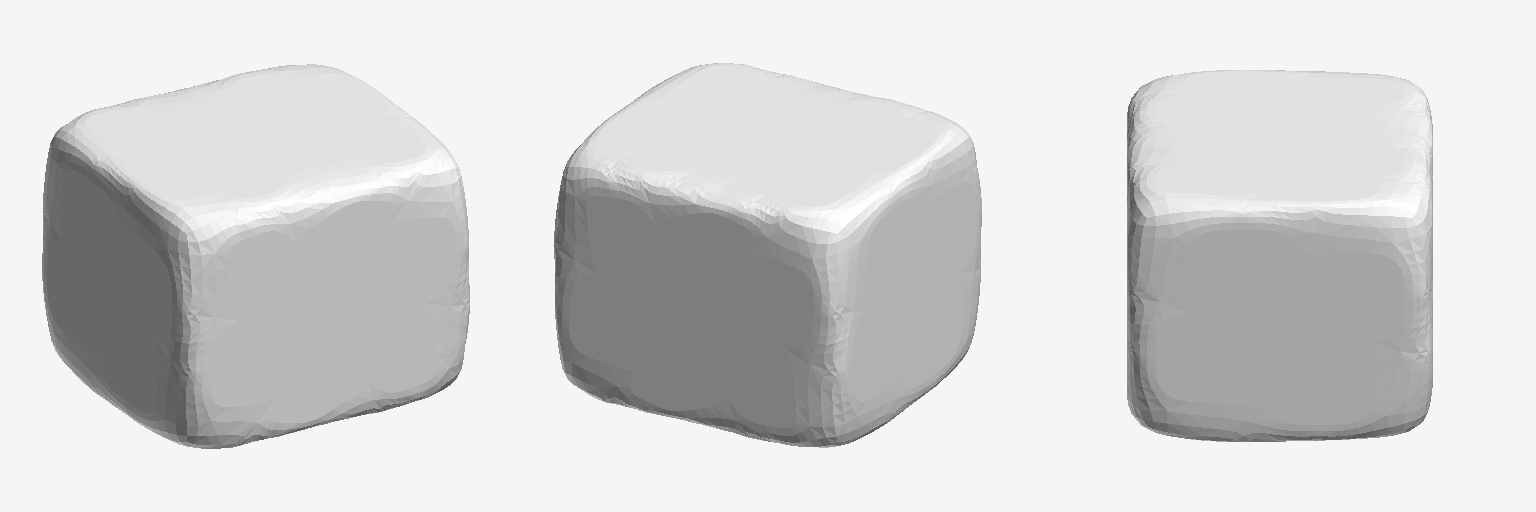
File: Button.obj
3 views of the same model, side by side, from view 1: azimuth 30°, elevation 25°; view 2: azimuth 150°, elevation 25°; view 3: azimuth 270°, elevation 25° (orthographic).
Visible parts, largest first — view 1: pasted__pasted__pasted__pasted__pasted__pasted__pasted__pasted__; view 2: pasted__pasted__pasted__pasted__pasted__pasted__pasted__pasted__; view 3: pasted__pasted__pasted__pasted__pasted__pasted__pasted__pasted__.
Part boxes in pixels (left/top/right/bottom): pasted__pasted__pasted__pasted__pasted__pasted__pasted__pasted__: left=42, top=64, right=469, bottom=448; pasted__pasted__pasted__pasted__pasted__pasted__pasted__pasted__: left=554, top=63, right=981, bottom=447; pasted__pasted__pasted__pasted__pasted__pasted__pasted__pasted__: left=1127, top=70, right=1432, bottom=441.
Bounding box in the file's own units: 0.7244 × 0.5665 × 0.6561.